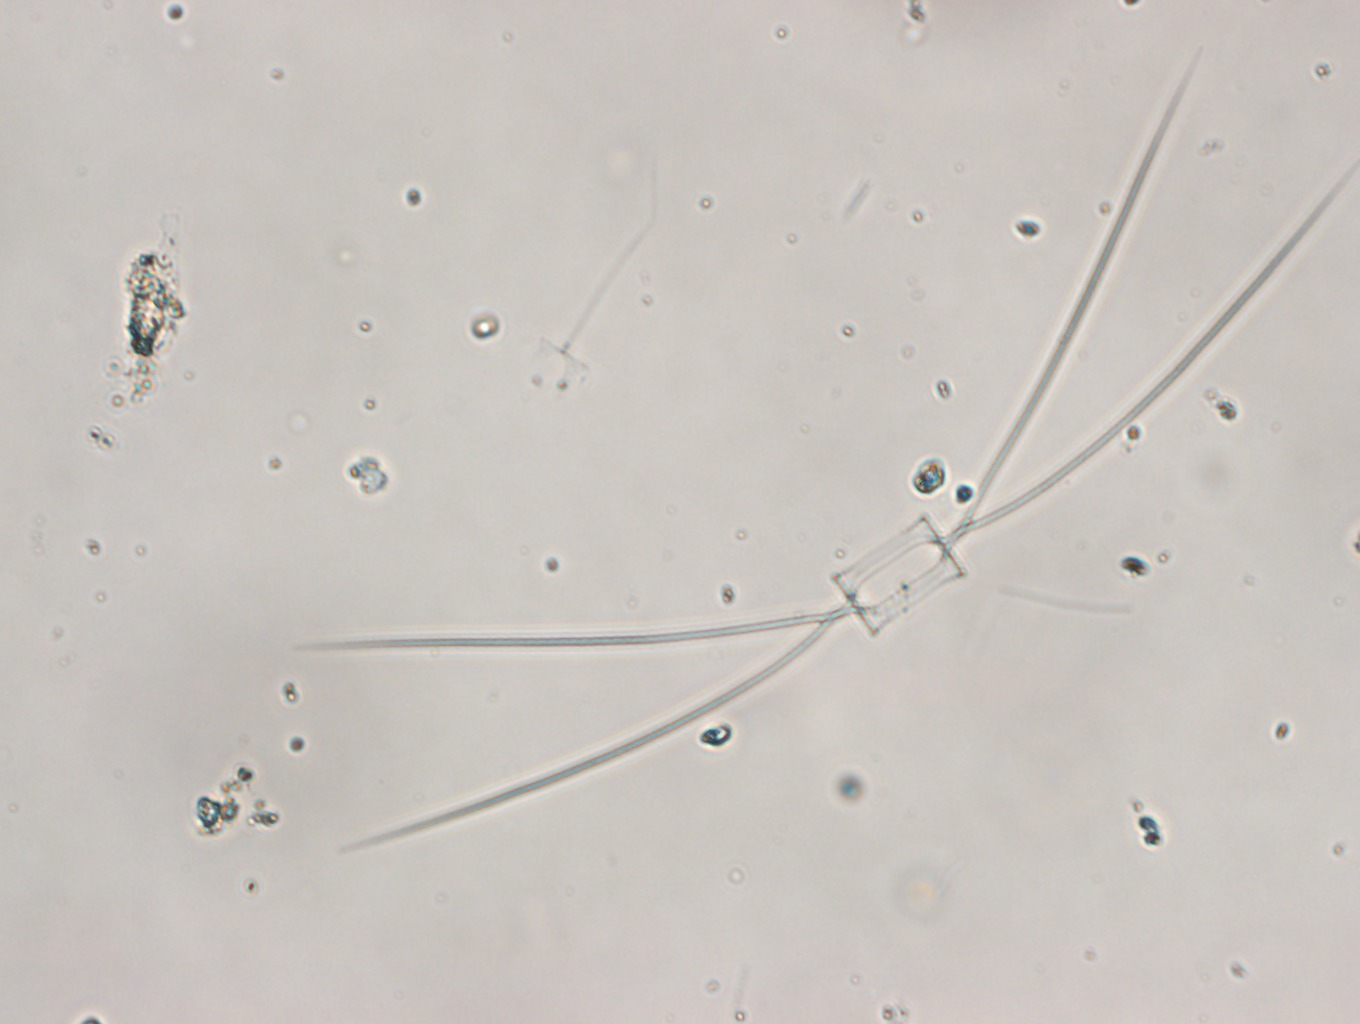chaetoceros: (324, 62, 1360, 847)
